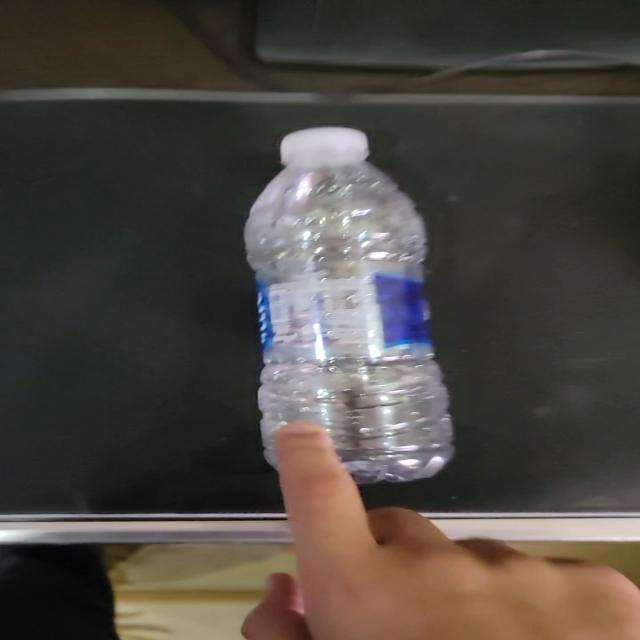Anorganik: (234, 124, 458, 488)
